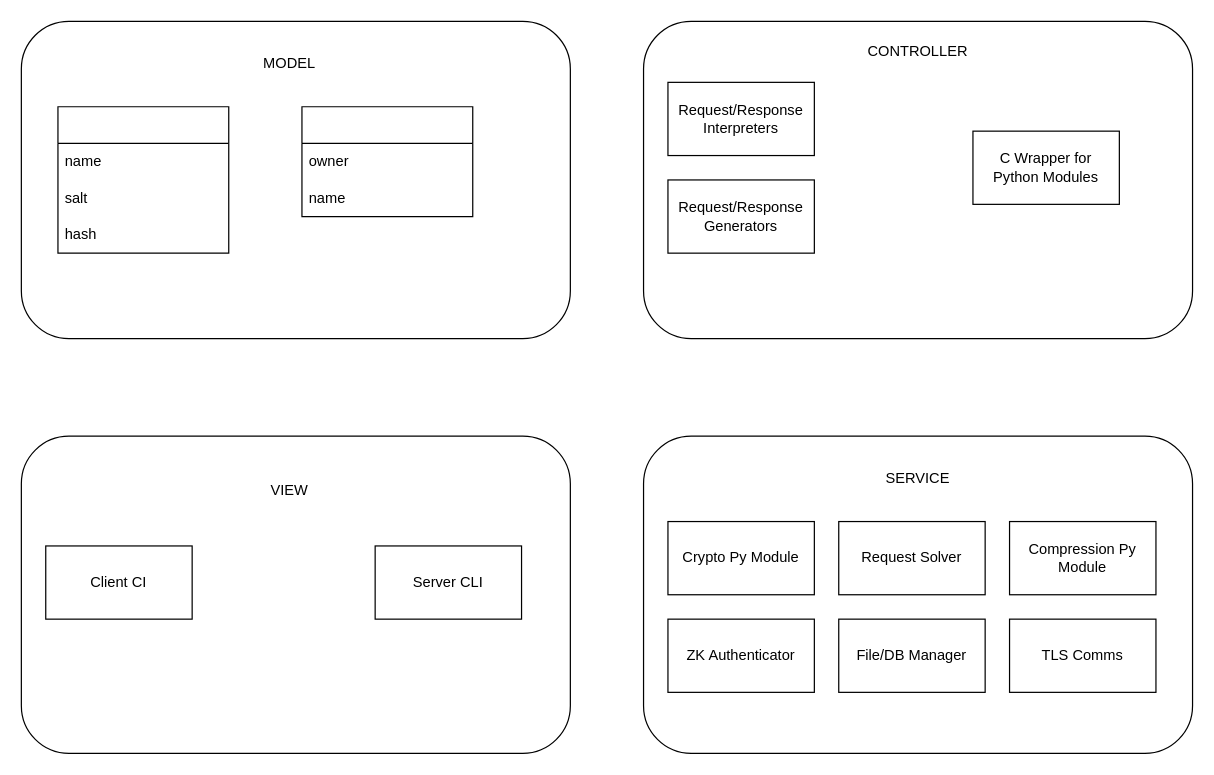
The diagram is 1214 pixels wide and 775 high, and some of its shapes have lost their labels. Each missing label, with the box of its shape:
File: (301, 106, 473, 217)
User: (57, 106, 229, 253)
